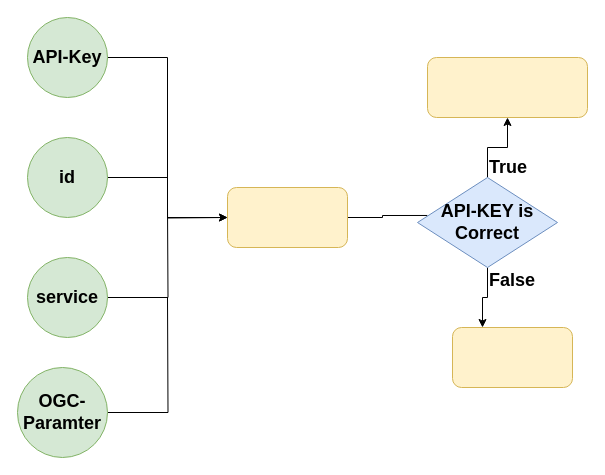
The diagram is 605 pixels wide and 475 high, and some of its shapes have lost their labels. Each missing label, with the centre of its shape:
get Parameter: (x=287, y=217)
Send Error Message: (x=512, y=357)
Stream Request from MapServer: (x=507, y=87)
